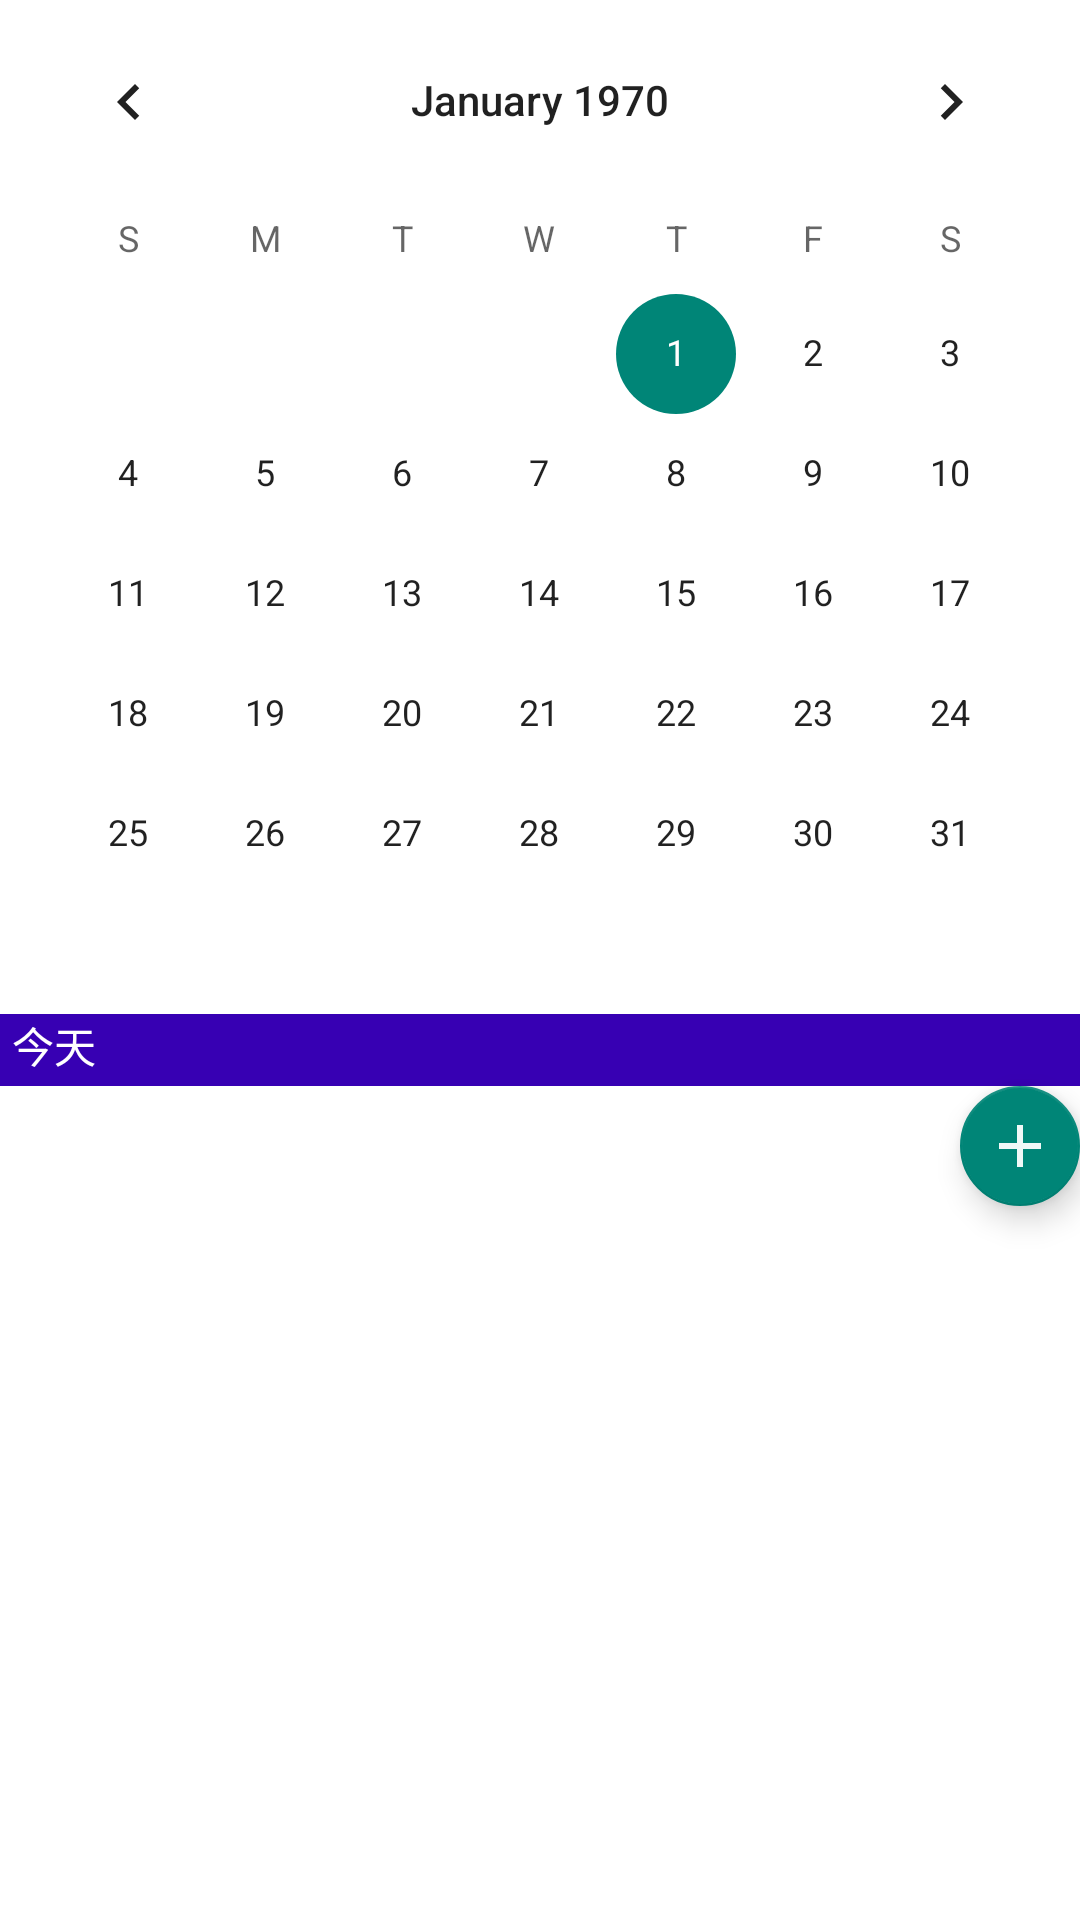

Icons on this 1080w x 1920h Android screen, each with the point to tap as (x,y):
add: (1020,1146)
